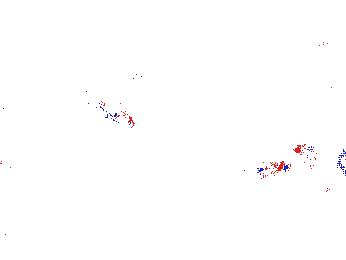red belly glassfish: (233, 159, 297, 184), (95, 101, 140, 132)
redtail glassfish: (64, 64, 175, 105), (293, 136, 346, 183)
